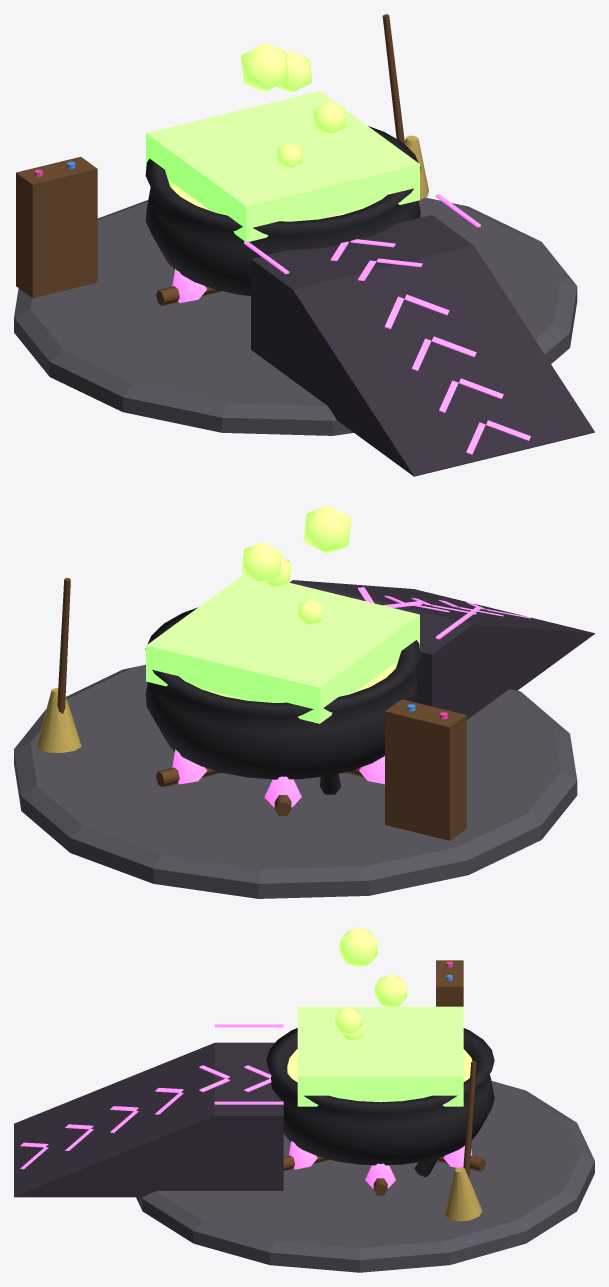
Rendered from WitchCauldronFurnace_Roblox.fbx.
3 renders of one model, top to bottom at view 1: azimuth 30°, elevation 25°; view 2: azimuth 150°, elevation 25°; view 3: azimuth 270°, elevation 25°, orthographic. The views are drawn at different scales.
Parts seen in each view (by area): view 1: Conveyor, HearthStone, BurnZone, CauldronIron, BroomWood, WitchBrew, WitchFire; view 2: HearthStone, BurnZone, CauldronIron, Conveyor, BroomWood, WitchBrew, WitchFire, Straw; view 3: HearthStone, Conveyor, BurnZone, CauldronIron, WitchBrew, WitchFire, BroomWood, Straw.
Part boxes in pixels (box(x1,y1,x2,y2)): Conveyor: box(251, 215, 594, 476); HearthStone: box(14, 197, 577, 435); BurnZone: box(146, 91, 419, 241); CauldronIron: box(145, 126, 420, 295); BroomWood: box(16, 14, 404, 305); WitchBrew: box(170, 43, 363, 219); WitchFire: box(172, 194, 530, 454); HearthStone: box(14, 664, 577, 898); BurnZone: box(146, 574, 419, 723); CauldronIron: box(145, 607, 420, 794); Conveyor: box(290, 580, 594, 719); BroomWood: box(57, 578, 466, 840); WitchBrew: box(204, 505, 395, 700); WitchFire: box(172, 559, 530, 807); Straw: box(37, 688, 81, 752); HearthStone: box(136, 1081, 594, 1272); Conveyor: box(14, 1042, 283, 1197); BurnZone: box(297, 1006, 463, 1106); CauldronIron: box(266, 1028, 494, 1177); WitchBrew: box(287, 927, 472, 1102); WitchFire: box(20, 1024, 472, 1188); BroomWood: box(283, 960, 485, 1195); Straw: box(444, 1167, 482, 1221).
Bounding box in the file's own units: 1360 × 858 × 1680.
